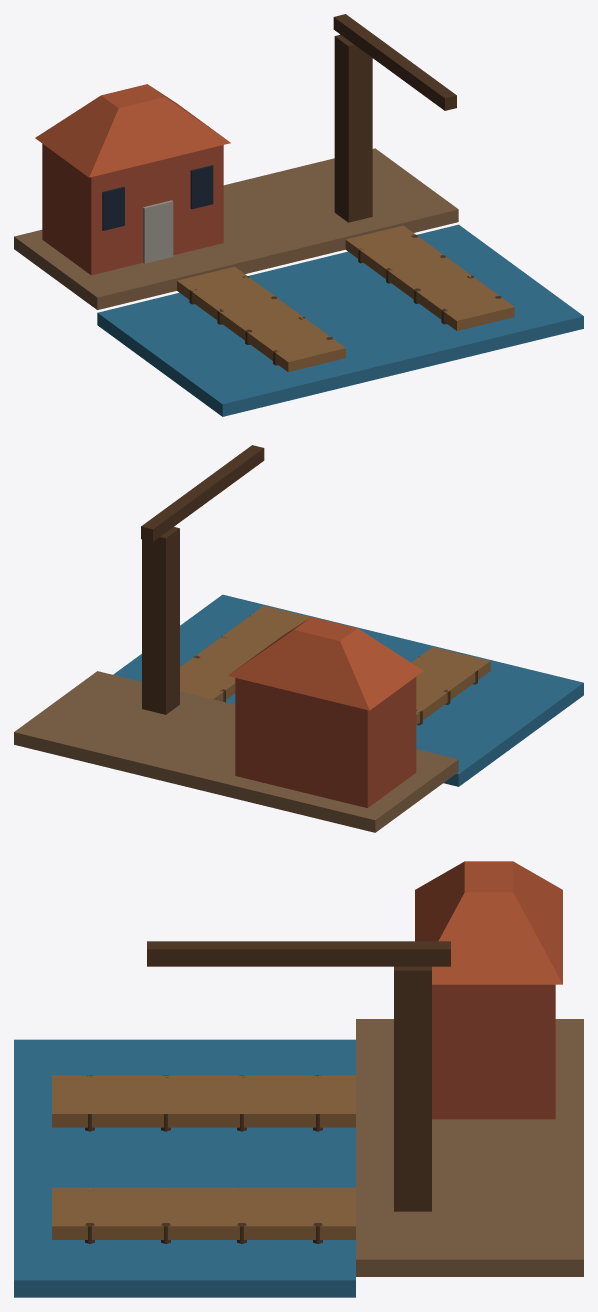
Rendered from bld_special_port_a04_lod1.glb.
3 views of the same model, one above another, from view 1: azimuth 30°, elevation 25°; view 2: azimuth 150°, elevation 25°; view 3: azimuth 270°, elevation 25° (orthographic). The views are drawn at different scales.
Visible parts, largest first — view 1: body, crane; view 2: body, crane; view 3: body, crane.
Part boxes in pixels (bbox=[...]): body: bbox=[14, 84, 583, 416]; crane: bbox=[333, 14, 456, 222]; body: bbox=[14, 594, 583, 832]; crane: bbox=[141, 445, 264, 714]; body: bbox=[14, 861, 583, 1297]; crane: bbox=[147, 941, 450, 1211].
Bounding box in the file's own units: 15 × 8.9 × 15.
